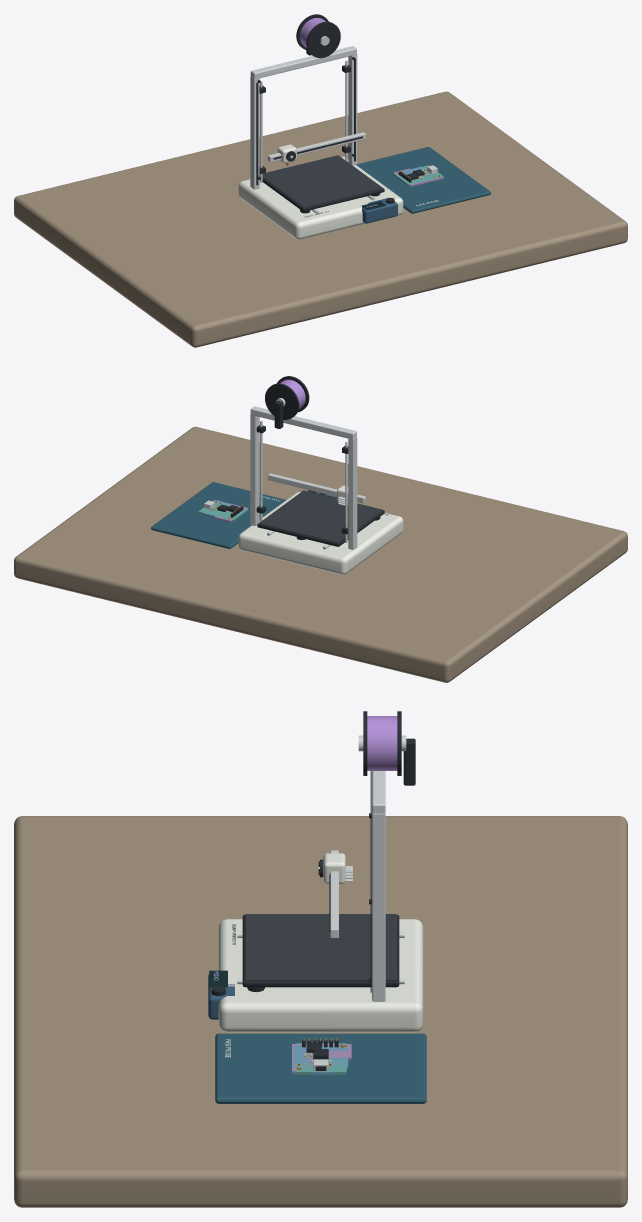
File: print-bench.glb
3 views of the same model, one above another, from view 1: azimuth 30°, elevation 25°; view 2: azimuth 150°, elevation 25°; view 3: azimuth 270°, elevation 25° (orthographic). The views are drawn at different scales.
Visible parts, largest first — view 1: Printing workbench, Assembly mat, Printer base, Build surface, Upright aluminium rail, Upper frame, Filament spool flange, Upright aluminium rail.001, Heated bed, Moving X beam, Printer screen housing; view 2: Printing workbench, Printer base, Assembly mat, Build surface, Upright aluminium rail, Upright aluminium rail.001, Upper frame, Filament spool flange.001, Moving X beam, Heated bed; view 3: Printing workbench, Assembly mat, Printer base, Build surface, Upright aluminium rail.001, Filament winding, Heated bed, PCB body 1.
Part boxes in pixels (x1,y1,x2,y2): Printing workbench: (14,91,627,347); Assembly mat: (356,147,490,213); Printer base: (238,156,403,239); Build surface: (259,155,382,207); Upright aluminium rail: (250,76,259,189); Upper frame: (250,46,356,78); Filament spool flange: (306,21,340,58); Upright aluminium rail.001: (348,54,357,165); Heated bed: (259,176,384,211); Moving X beam: (268,132,365,162); Printer screen housing: (362,198,397,223); Printing workbench: (14,426,627,682); Printer base: (238,492,403,574); Assembly mat: (151,482,285,548); Build surface: (259,490,382,542); Upright aluminium rail: (348,437,357,549); Upright aluminium rail.001: (250,414,259,525); Upper frame: (250,406,356,439); Filament spool flange.001: (265,383,299,419); Moving X beam: (268,473,365,503); Heated bed: (257,510,384,546); Printing workbench: (14,816,627,1207); Assembly mat: (215,1033,426,1103); Printer base: (218,919,423,1032); Build surface: (245,914,396,980); Upright aluminium rail.001: (372,813,385,1001); Filament winding: (367,716,397,770); Heated bed: (242,915,399,987); PCB body 1: (293,1045,348,1074).
Bounding box in the file's own units: 2.5 × 1.06 × 1.8.
